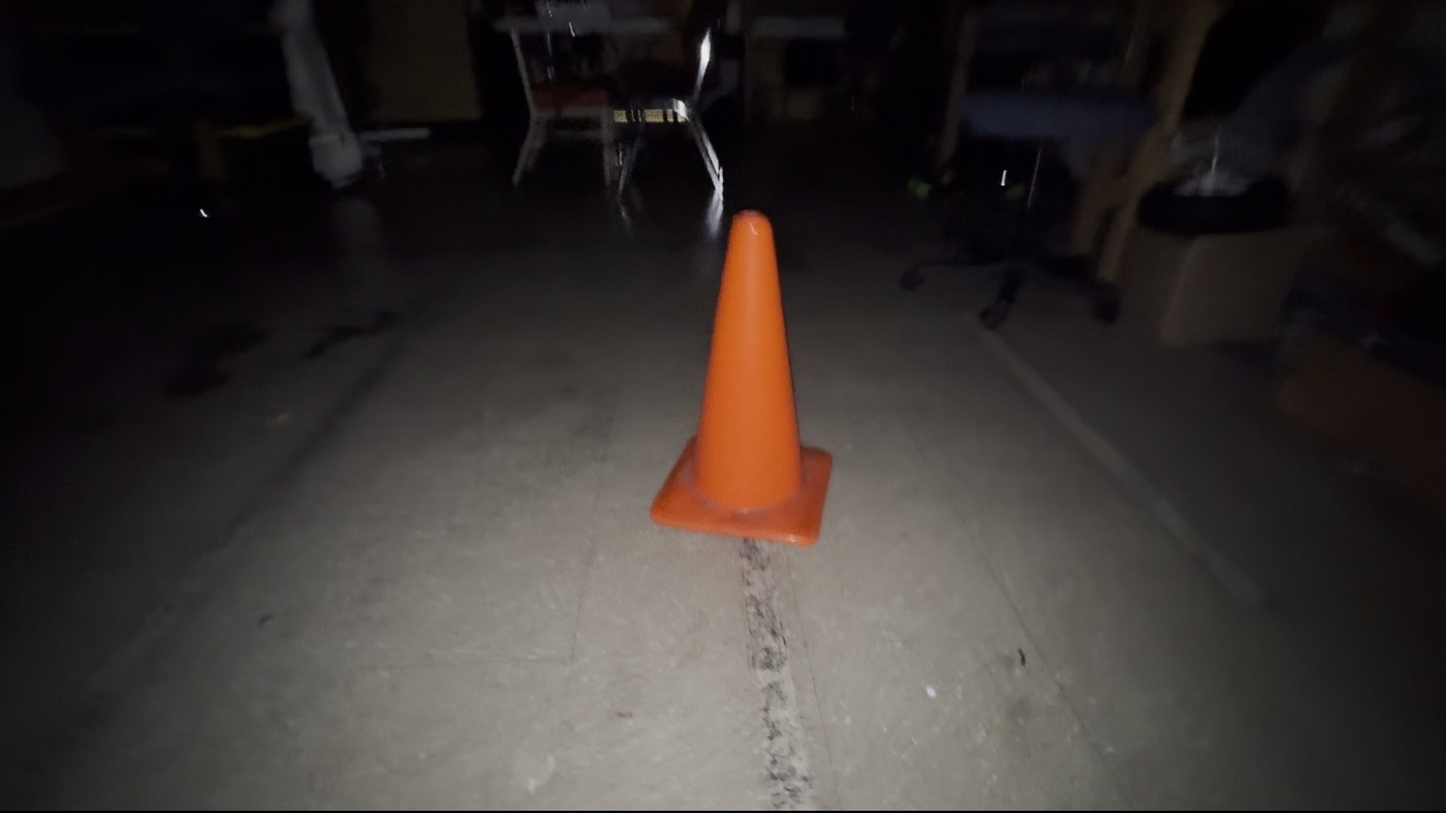traffic_cone: (649, 208, 834, 548)
